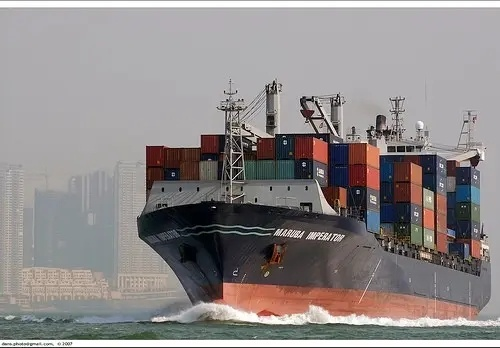Cargoship: (134, 73, 500, 323)
